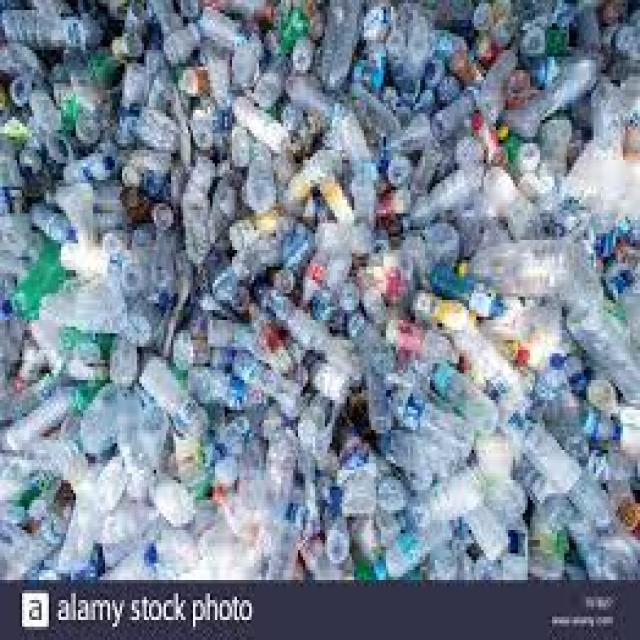heap: (13, 21, 631, 571)
